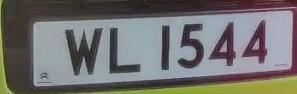1: (149, 19, 181, 77)
4: (205, 16, 242, 72), (238, 14, 272, 72)
5: (173, 19, 209, 73)
L: (103, 23, 146, 79)
W: (61, 22, 105, 80)
